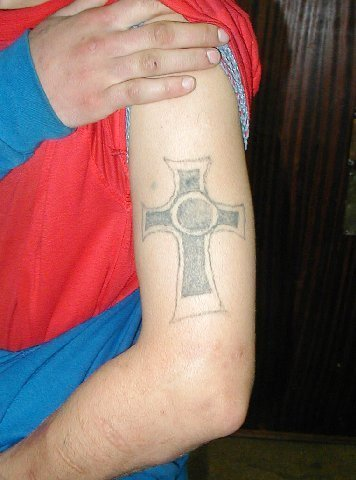tatu9_krest: (141, 147, 248, 332)
